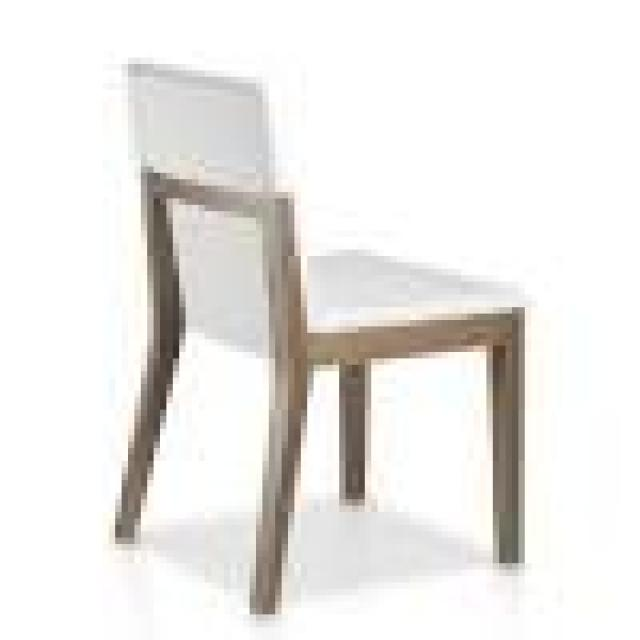bottle: (116, 61, 529, 614)
